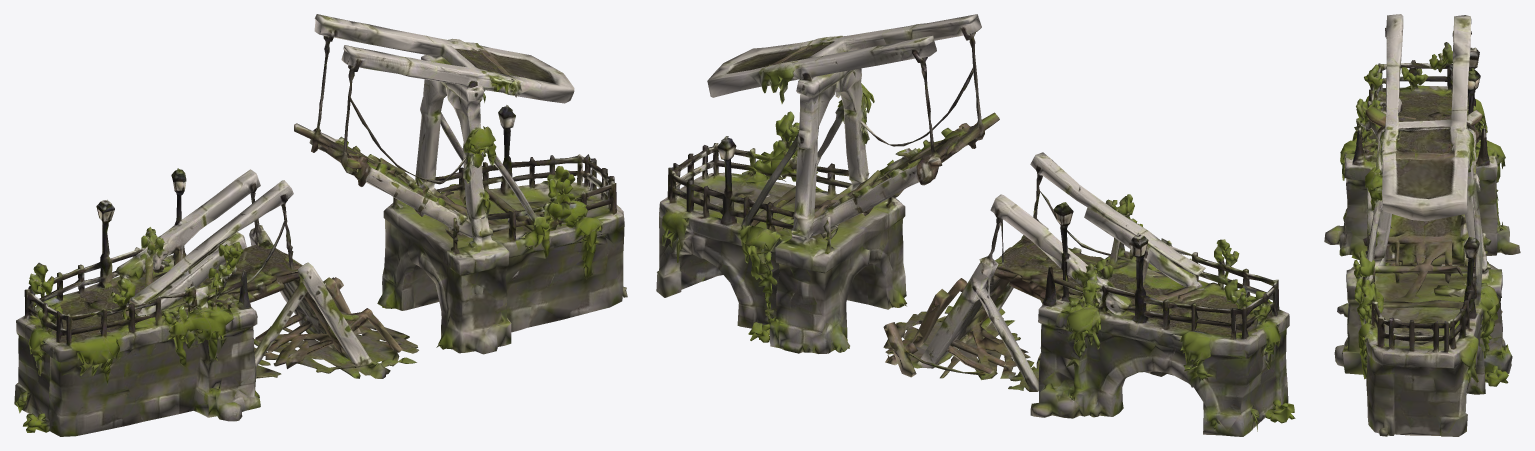
The model's file is cityBridge.glb.
3 renders of one model, left to right at view 1: azimuth 30°, elevation 25°; view 2: azimuth 150°, elevation 25°; view 3: azimuth 270°, elevation 25°, orthographic. The views are drawn at different scales.
Bounding box in the file's own units: 1.9 × 0.9644 × 0.5744.
1 material, 1 textured.
